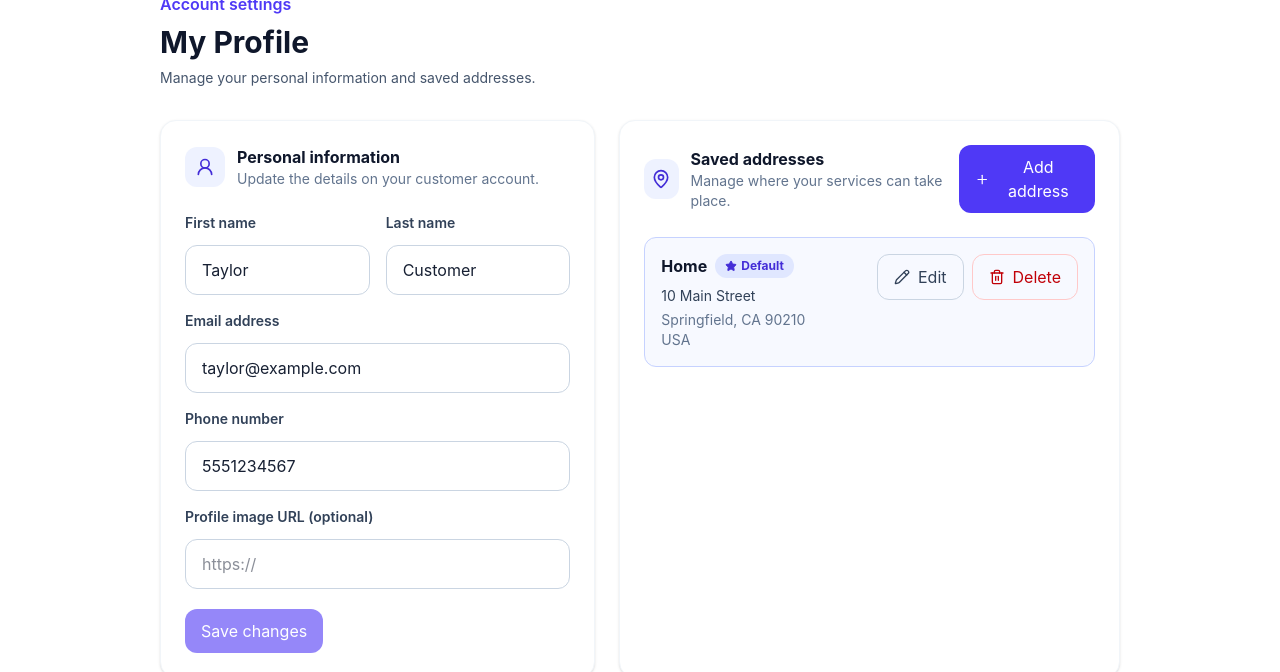
it: CustomerProfilePage › edits an existing address
Click the button with aria-label "Edit Home address". click: click(920, 277)
box: left=877, top=254, right=964, bottom=300
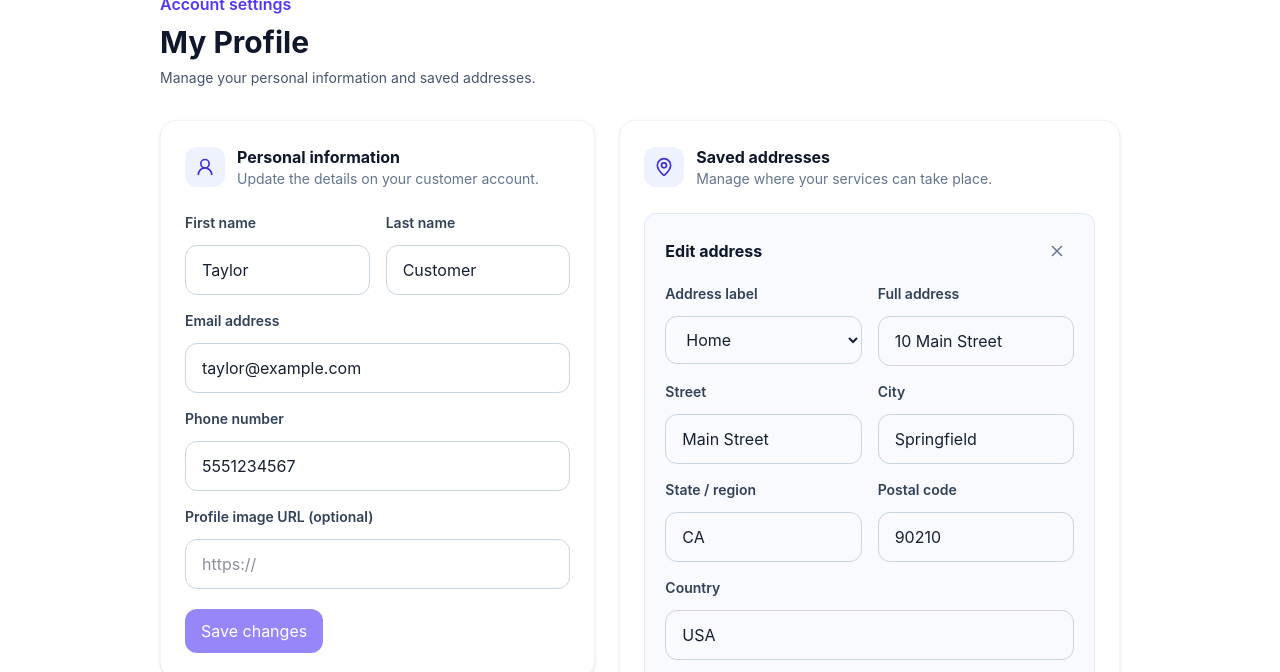
Replace the text in the field labelled "City" with "Oakland". click: (976, 439)
box: left=878, top=414, right=1074, bottom=464
(page scrolled)
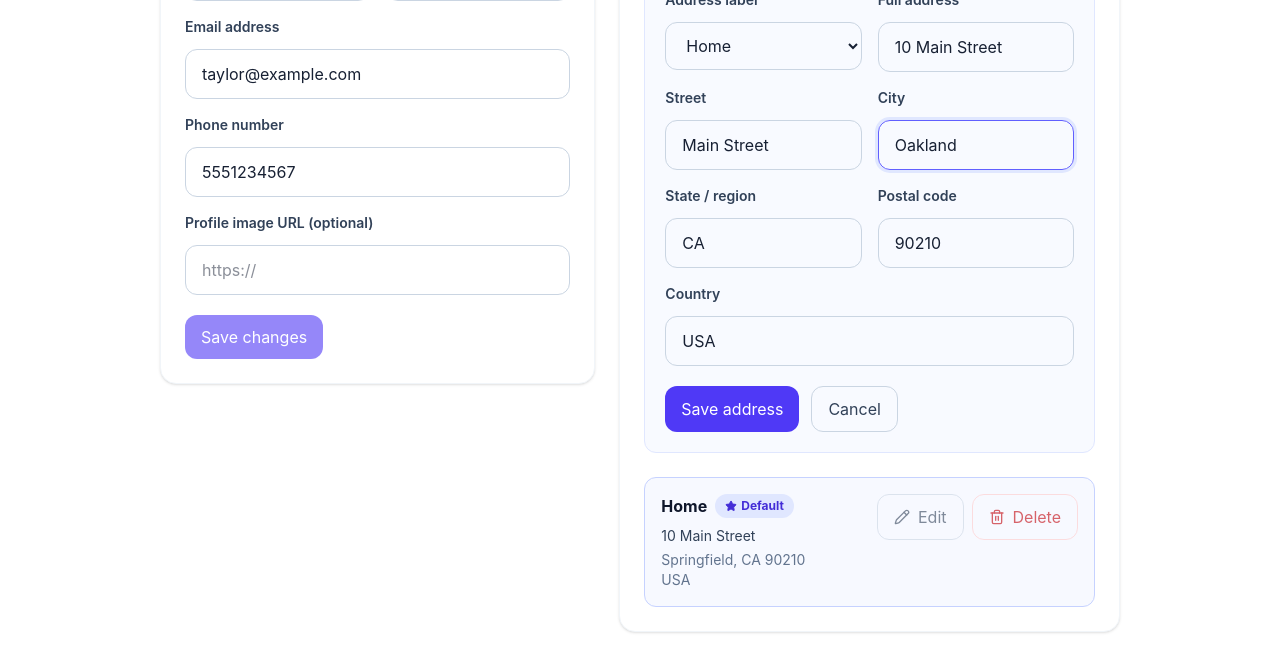
Click the button "Save address". click: click(732, 409)
box: left=665, top=386, right=799, bottom=432
(page scrolled)
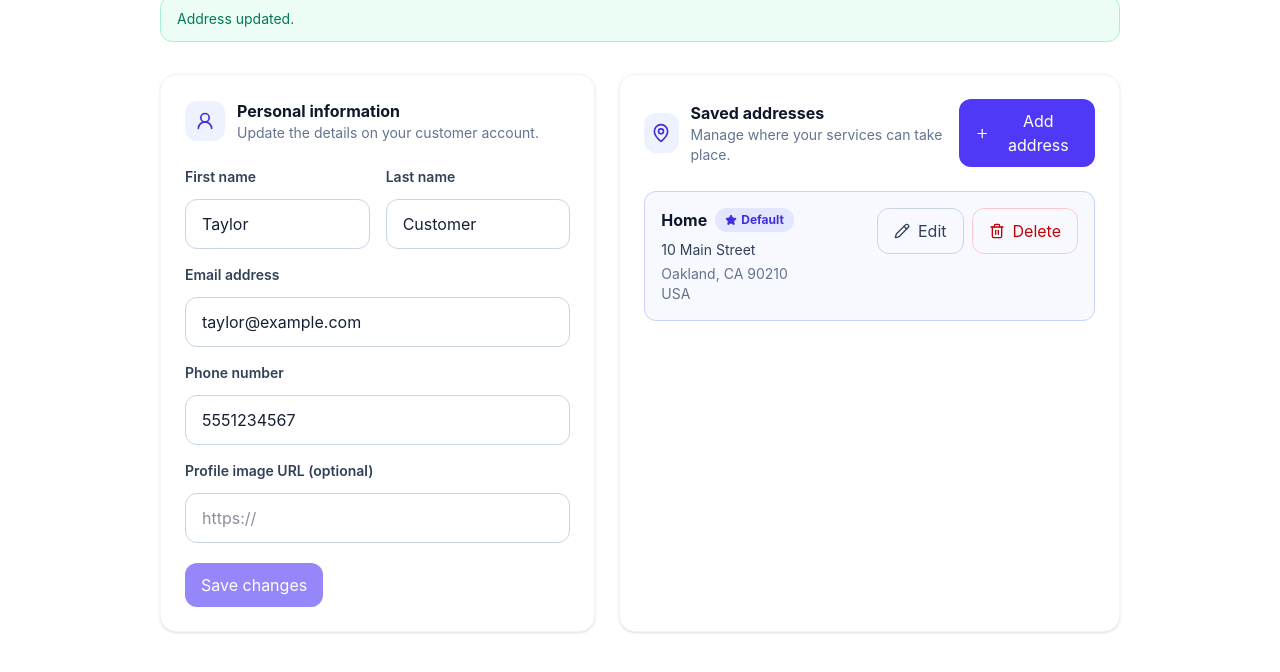
Check: the text "Oakland, CA 90210" is shown, box left=661, top=264, right=794, bottom=284
